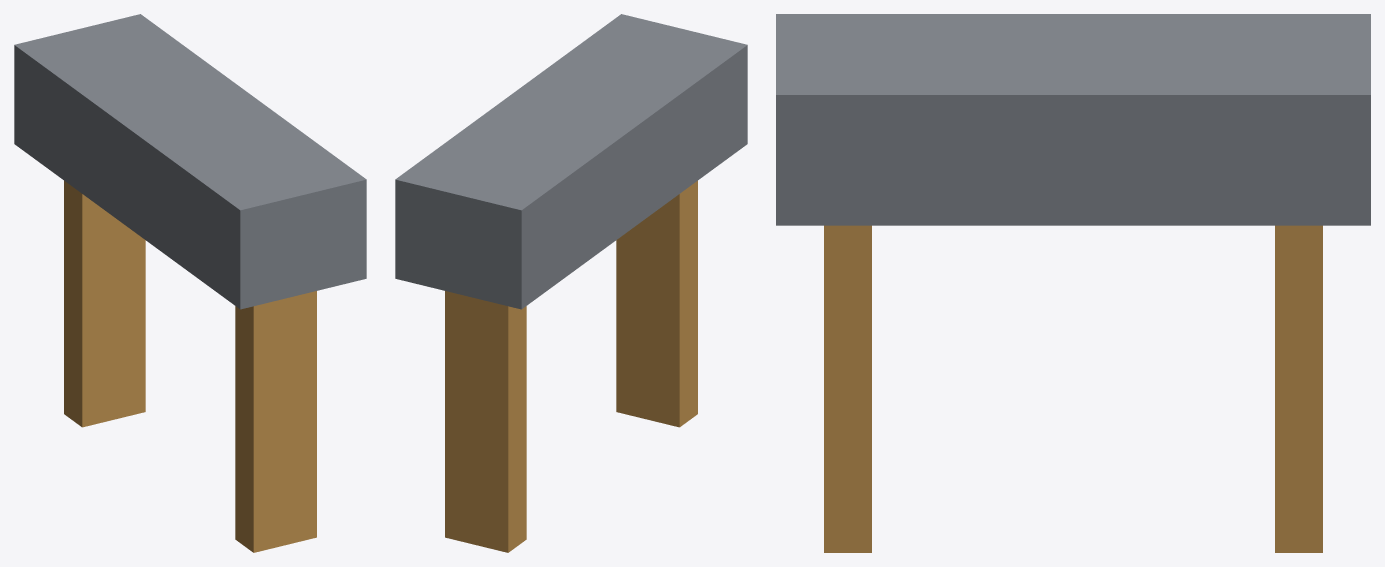
Rendered from gripper.glb.
3 views of the same model, side by side, from view 1: azimuth 30°, elevation 25°; view 2: azimuth 150°, elevation 25°; view 3: azimuth 270°, elevation 25° (orthographic). The views are drawn at different scales.
Visible parts, largest first — view 1: palm, finger_right, finger_left; view 2: palm, finger_left, finger_right; view 3: palm, finger_left, finger_right.
Part boxes in pixels (x1=…): palm: x1=14, y1=14, x2=366, y2=309; finger_right: x1=235, y1=291, x2=316, y2=552; finger_left: x1=64, y1=180, x2=145, y2=427; palm: x1=395, y1=14, x2=747, y2=309; finger_left: x1=445, y1=291, x2=526, y2=552; finger_right: x1=616, y1=180, x2=697, y2=427; palm: x1=776, y1=14, x2=1370, y2=225; finger_left: x1=1275, y1=225, x2=1322, y2=552; finger_right: x1=824, y1=225, x2=871, y2=552.
Bounding box in the file's own units: 0.04 × 0.11 × 0.124.
